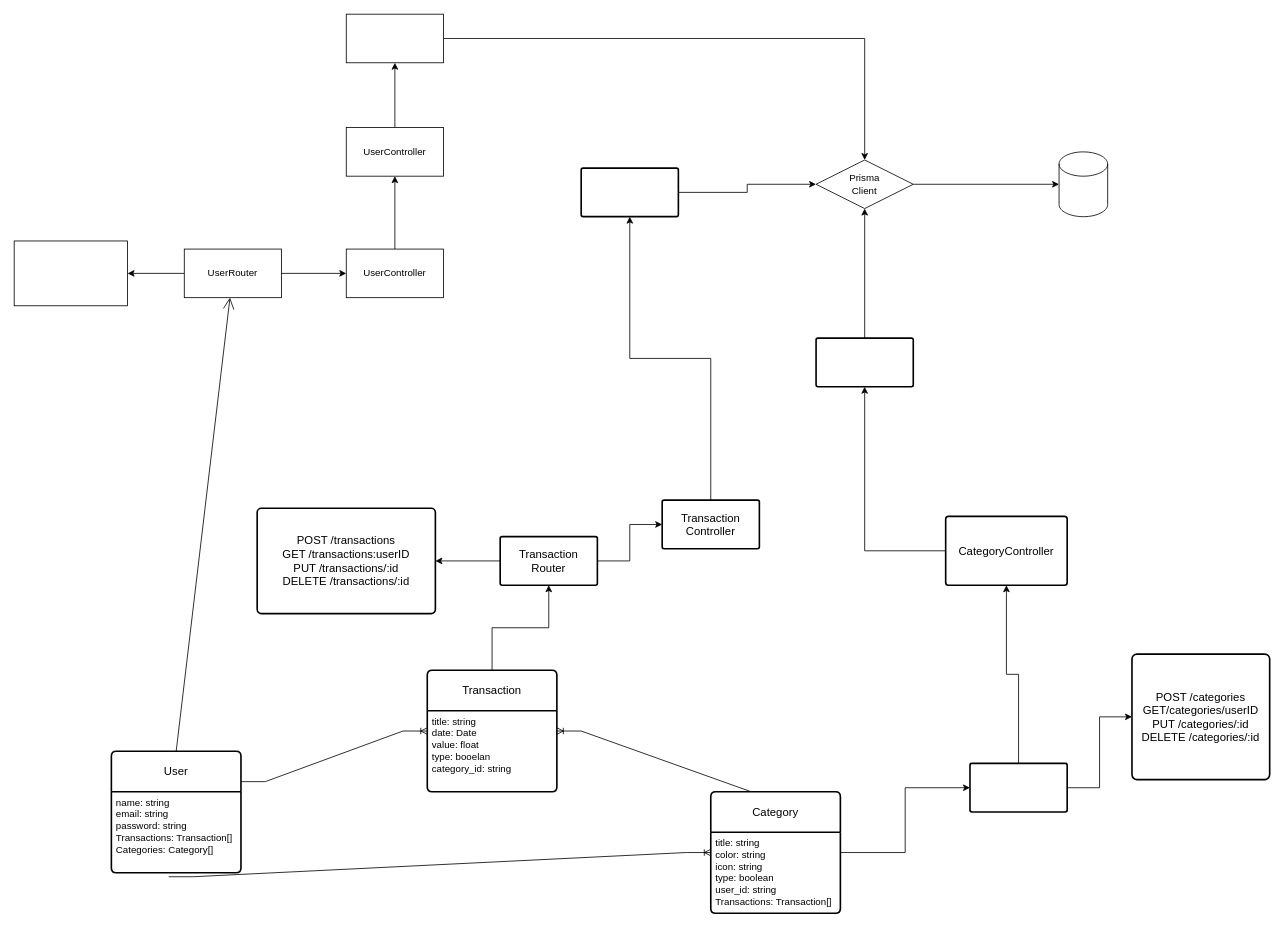
Some shapes in this 1285 by 928 pixel diagram are drawn without their labels. The centre of each missing label's shape, as x and y in pixels:
"Category Service" belongs at point 864,362.
"CategoryRouter" belongs at point 1018,787.
"POST /user GET /user/:id PUT /user/:id" belongs at point 70,273.
"Postgres DB" belongs at point 1083,184.
"Transaction Service" belongs at point 629,192.
"UserSerivce" belongs at point 394,38.
